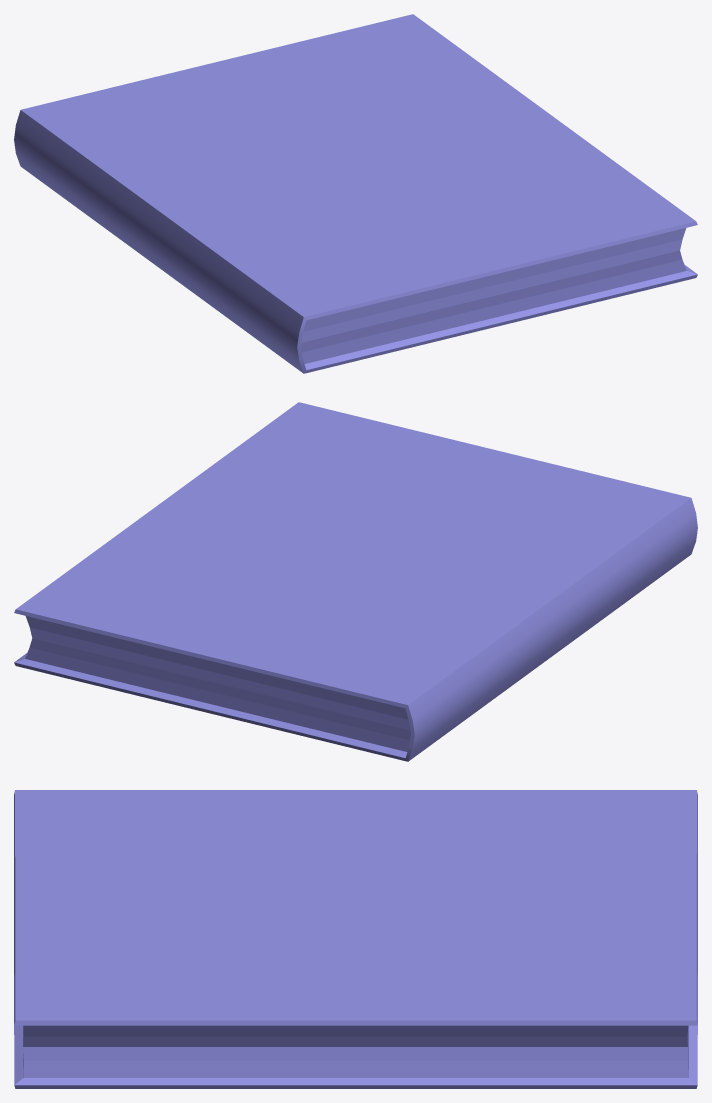
File: Libro 2.fbx
The picture shows the model from 3 angles, top to bottom: view 1: azimuth 30°, elevation 25°; view 2: azimuth 150°, elevation 25°; view 3: azimuth 270°, elevation 25°; orthographic projection. The views are drawn at different scales.
Parts seen in each view (by area): view 1: Libro_2; view 2: Libro_2; view 3: Libro_2.
Boxes of the visible parts, <box> form: Libro_2: <box>14,14,697,373</box>; Libro_2: <box>14,402,697,761</box>; Libro_2: <box>14,790,697,1088</box>.
Bounding box in the file's own units: 0.2818 × 0.0381 × 0.3465.
